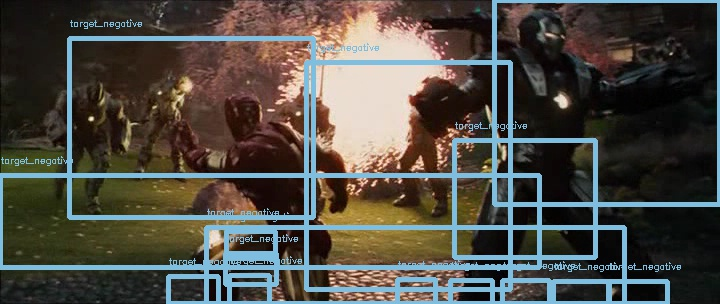person: (220, 88, 256, 138), (219, 88, 255, 138), (221, 88, 257, 138), (220, 87, 256, 137), (220, 89, 256, 139)
target_negative: (29, 178, 362, 298), (420, 220, 718, 280), (392, 55, 478, 180), (266, 95, 376, 171), (405, 288, 554, 300)
